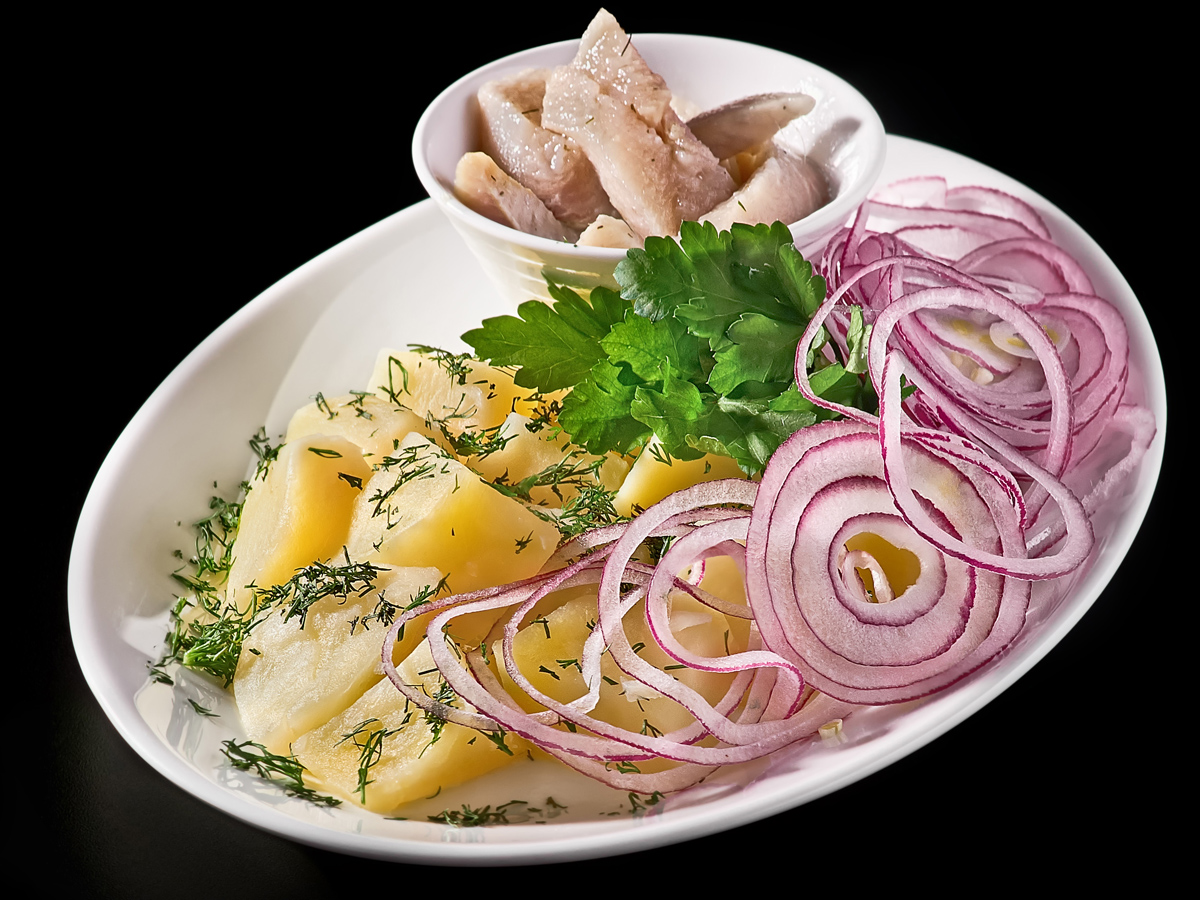boiled potatoes: (281, 404, 538, 568)
